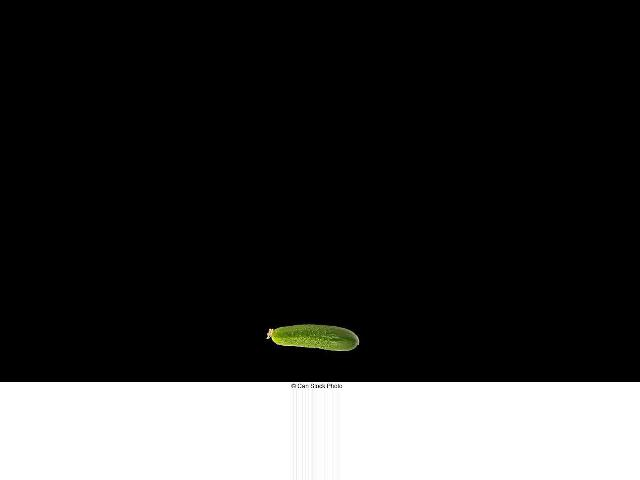cucumber: (267, 324, 359, 351)
